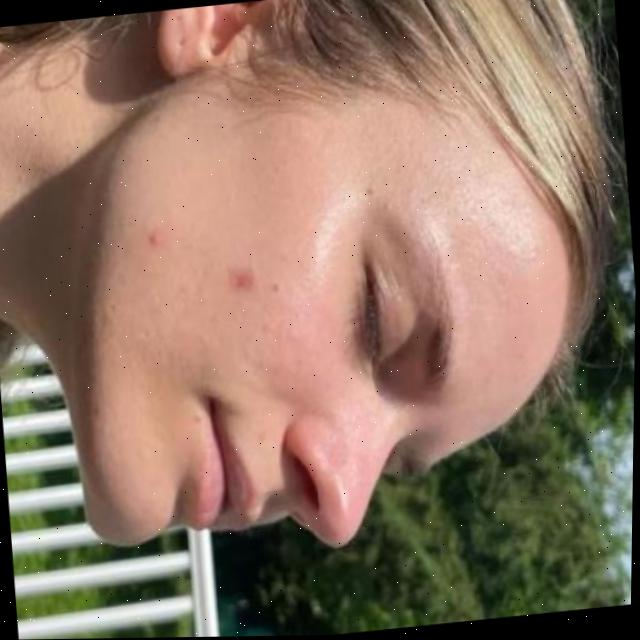Acne: (224, 255, 260, 295), (137, 222, 171, 251)
